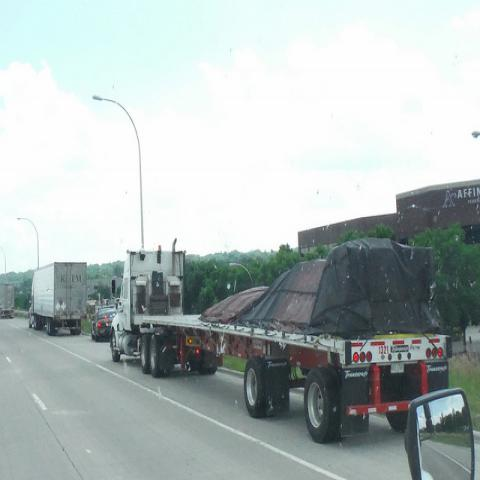car: (405, 389, 477, 474), (90, 306, 118, 342)
truck: (108, 234, 452, 444), (26, 262, 86, 338), (0, 283, 14, 319)
